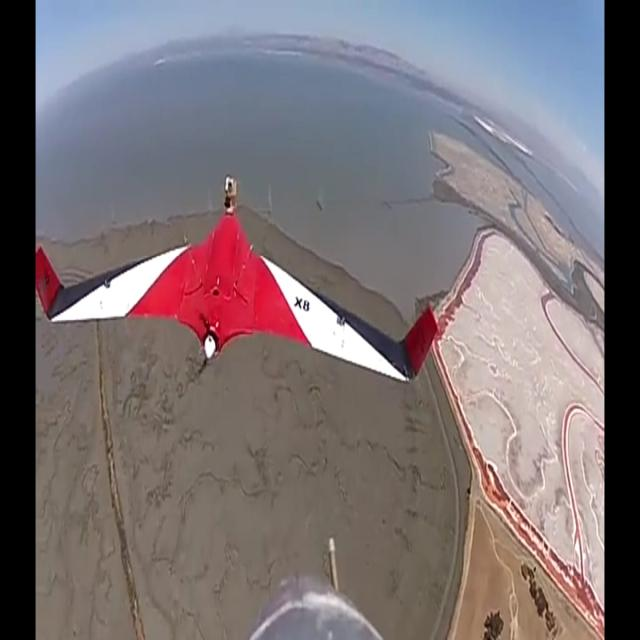iha: (37, 166, 440, 388)
